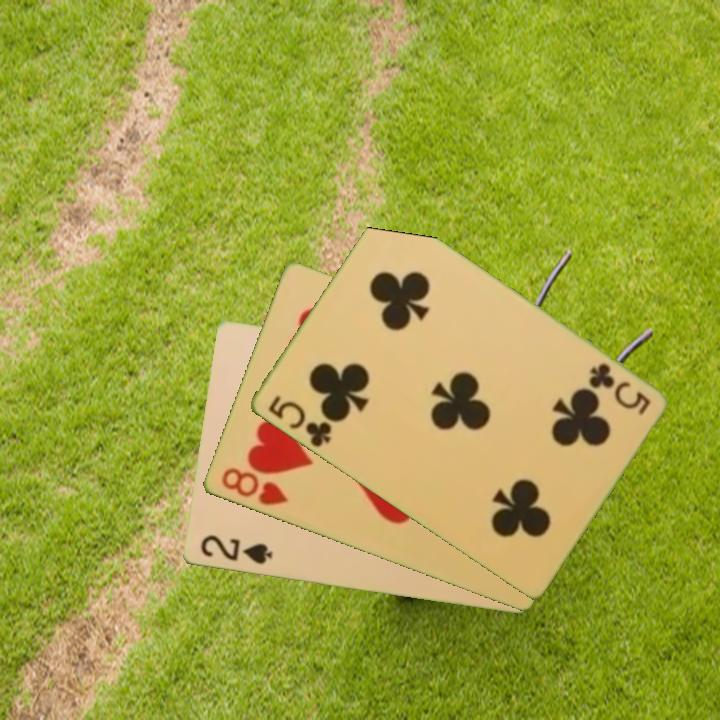2s: (196, 531, 275, 568)
5c: (263, 391, 334, 451), (584, 359, 653, 419)
8h: (217, 464, 291, 509)
